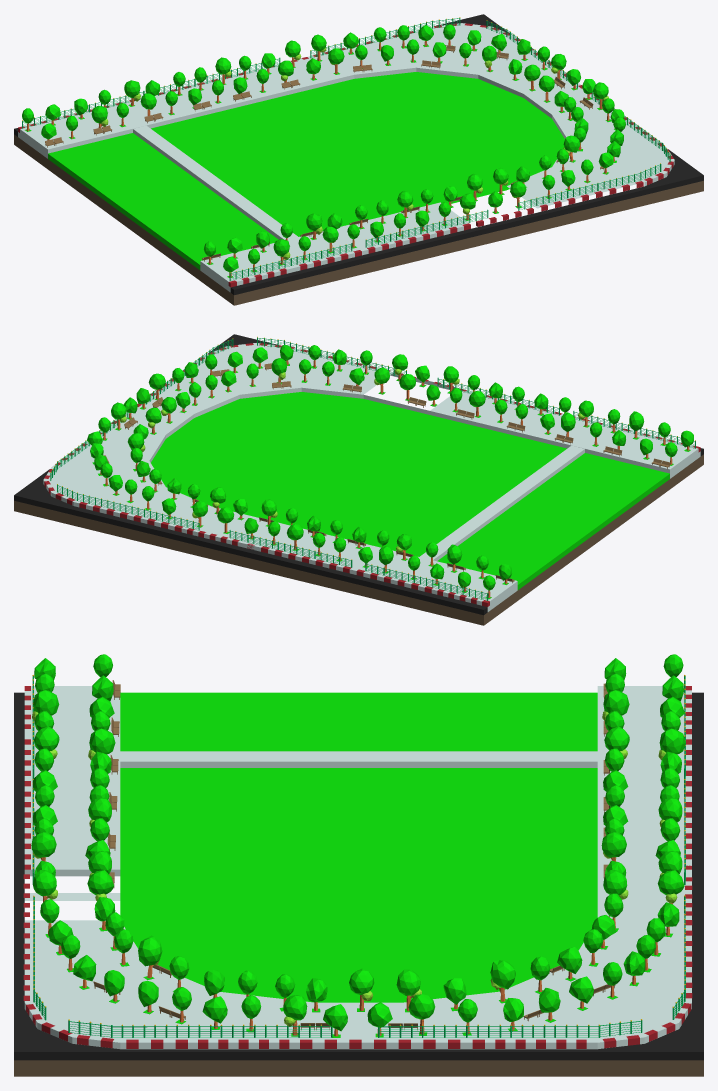
File: SanamLuang.glb
3 views of the same model, one above another, from view 1: azimuth 30°, elevation 25°; view 2: azimuth 150°, elevation 25°; view 3: azimuth 270°, elevation 25° (orthographic). The views are drawn at different scales.
Visible parts, largest first — view 1: Cube.001, Cube, Cube.003, Cube.002, Cube.038, Icosphere.004, Icosphere.005, Icosphere.003, Cube.058, Icosphere.001, Icosphere, Icosphere.002; view 2: Cube.001, Cube, Cube.003, Cube.002, Cube.082, Icosphere.001, Icosphere, Icosphere.002, Cube.083, Icosphere.003, Icosphere.004, Icosphere.005; view 3: Cube.001, Cube, Cube.002, Cube.003, Icosphere.065, Icosphere.064, Cube.124, Cube.125, Cube.038, Icosphere.054, Cube.082, Icosphere.044 (+2 smaller).
Boxes of the visible parts, box(x1,y1,x2,y2) form: Cube.001: box(48, 72, 564, 269); Cube: box(18, 23, 674, 292); Cube.003: box(14, 134, 703, 305); Cube.002: box(14, 14, 703, 295); Cube.038: box(228, 223, 470, 287); Icosphere.004: box(365, 211, 486, 247); Icosphere.005: box(518, 173, 639, 210); Icosphere.003: box(229, 244, 351, 280); Cube.058: box(476, 181, 643, 226); Icosphere.001: box(158, 58, 278, 95); Icosphere: box(22, 91, 143, 128); Icosphere.002: box(310, 21, 431, 58); Cube.001: box(151, 392, 669, 589); Cube: box(43, 343, 700, 611); Cube.003: box(14, 454, 703, 625); Cube.002: box(14, 334, 703, 615); Cube.082: box(247, 543, 489, 606); Icosphere.001: box(230, 531, 352, 567); Icosphere: box(366, 564, 488, 600); Icosphere.002: box(77, 493, 199, 530); Cube.083: box(79, 502, 239, 545); Icosphere.003: box(574, 412, 695, 448); Icosphere.004: box(438, 379, 559, 415); Icosphere.005: box(285, 341, 406, 376); Cube.001: box(120, 692, 597, 1002); Cube: box(24, 686, 691, 1049); Cube.002: box(14, 692, 703, 1060); Cube.003: box(14, 1060, 703, 1076); Icosphere.065: box(379, 1024, 600, 1037); Icosphere.064: box(112, 1024, 332, 1037); Cube.124: box(300, 1039, 586, 1048); Cube.125: box(126, 1039, 289, 1048); Cube.038: box(24, 686, 30, 869); Icosphere.054: box(490, 960, 515, 1001); Cube.082: box(685, 686, 691, 869); Icosphere.044: box(349, 968, 374, 1010).
Size of what is drawn, in the model's own units: 2005 by 185 by 1623.
